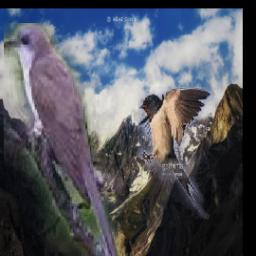Cuckoo: (5, 24, 123, 256)
Swallow: (138, 87, 221, 219)
